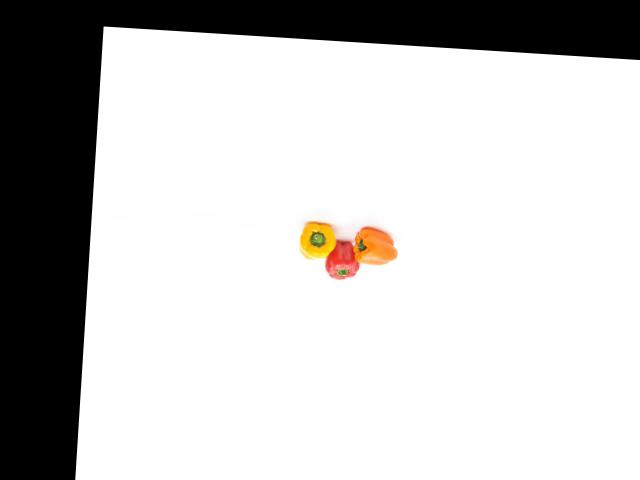bell_pepper: (296, 220, 341, 263)
